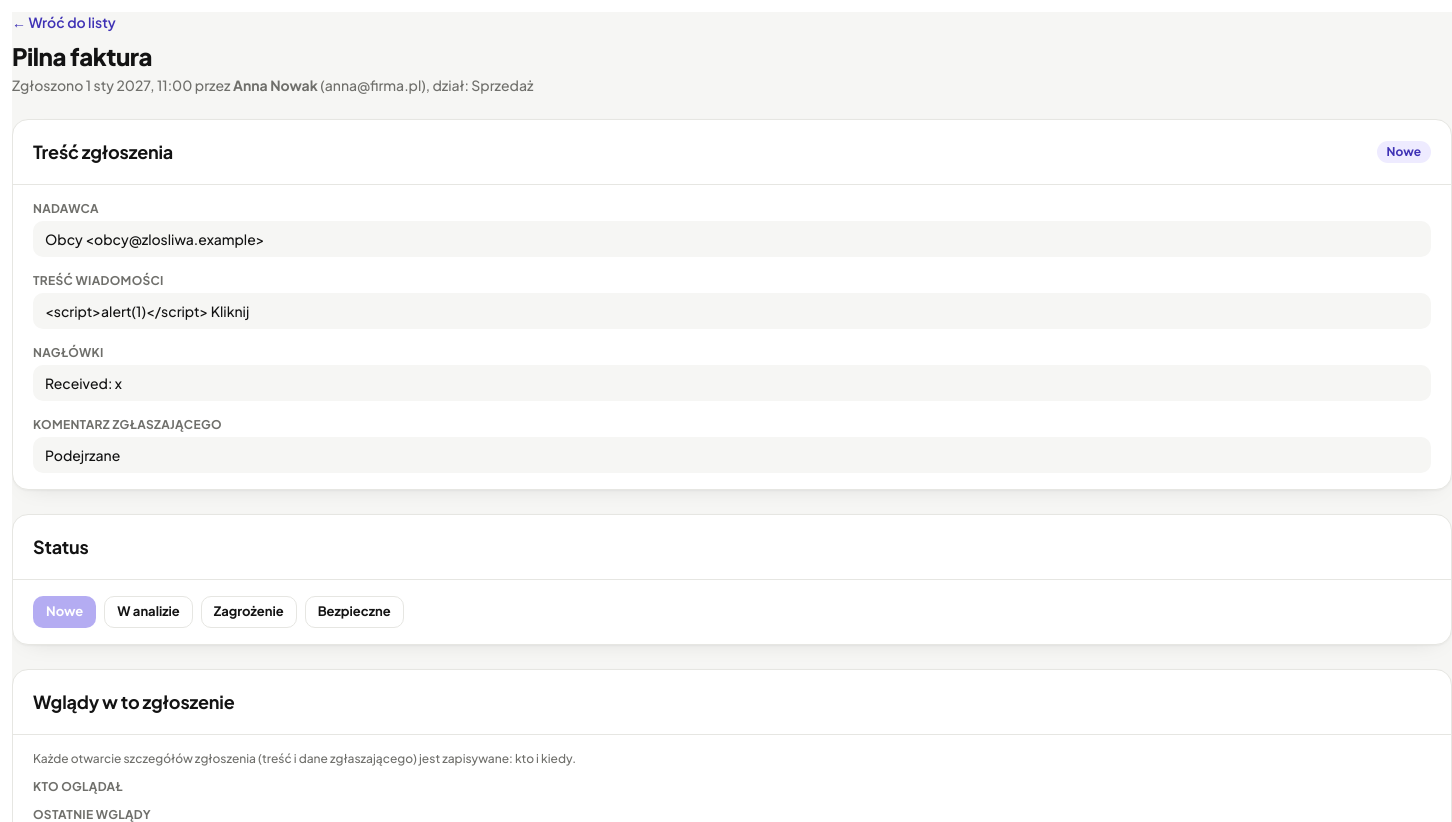
Test: skrzynka zgłoszeń (web) › ReportDetail (ORG_ADMIN) › zmiana statusu wysyła wybrany status i pokazuje odpowiedź serwera (wpis w historii); bieżący status jest nieaktywny
Check: the heading "Treść wiadomości" is shown, box left=33, top=273, right=164, bottom=288
Check: the button "Nowe" is disabled, box left=33, top=596, right=96, bottom=628
Click the button "W analizie". click: click(148, 612)
box: left=104, top=596, right=193, bottom=628
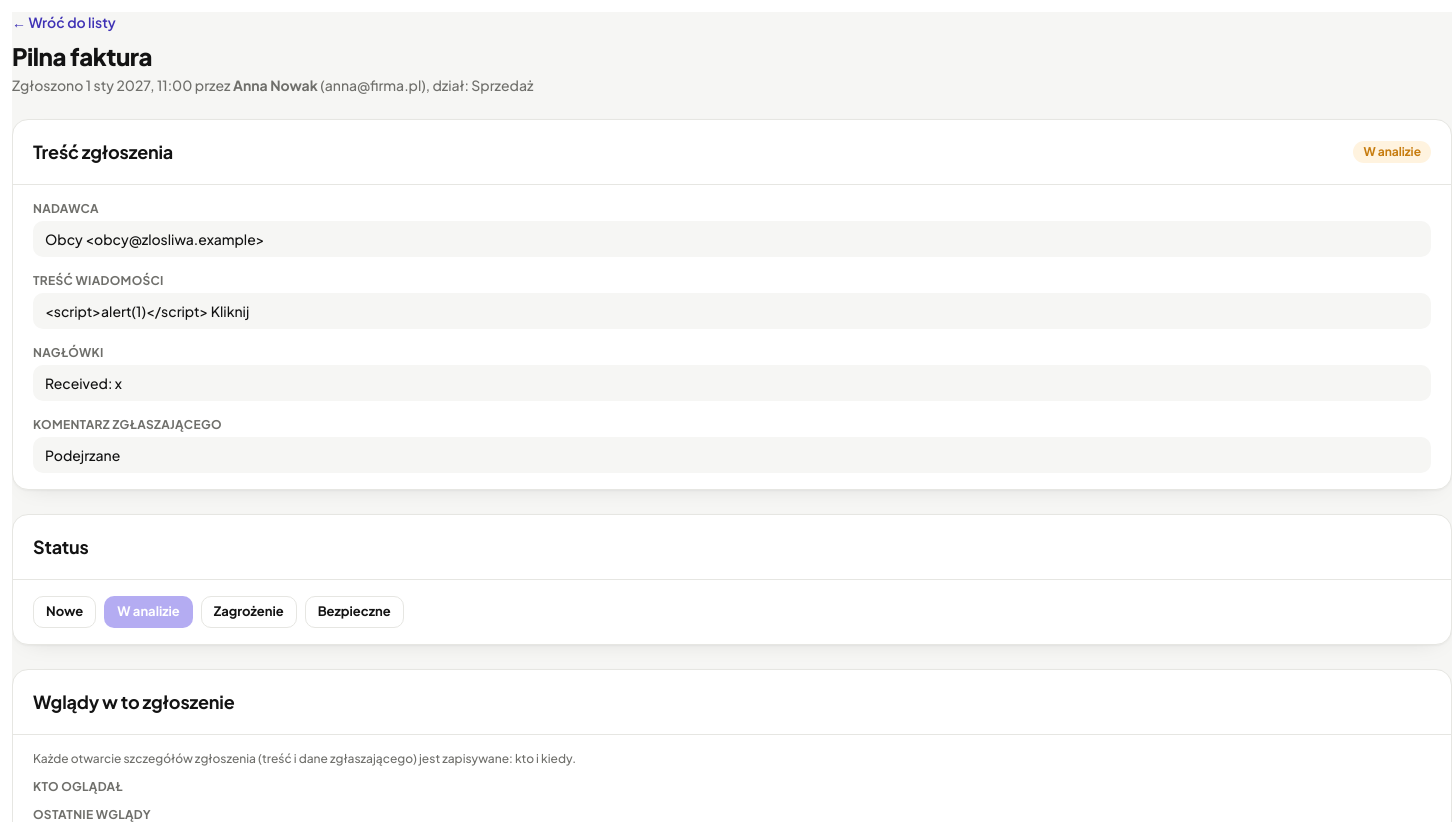
Check: the button "<script>alert(1)</script> Kliknij" is shown, box left=33, top=293, right=1431, bottom=329
Check: the button "W analizie" is disabled, box left=104, top=596, right=193, bottom=628
